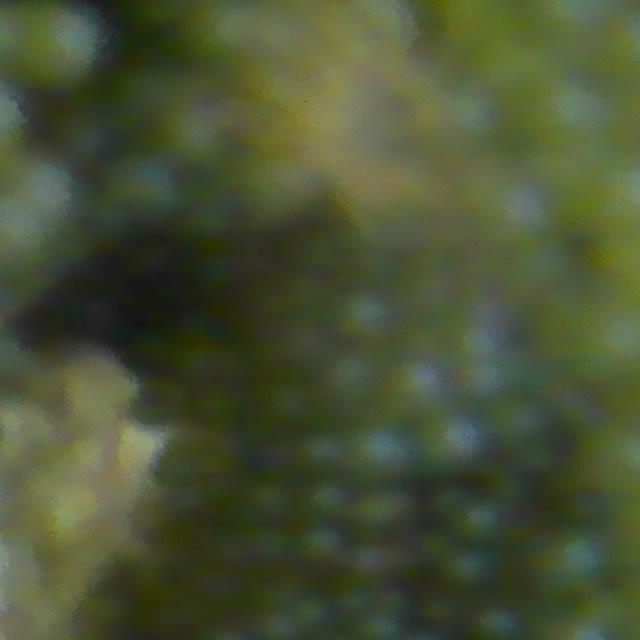SeaGrape: (0, 154, 80, 251), (12, 0, 106, 79), (529, 61, 619, 142), (473, 170, 555, 248), (522, 526, 603, 602), (107, 153, 183, 225), (342, 418, 410, 482), (325, 348, 389, 407), (352, 481, 416, 539), (391, 357, 453, 415), (426, 414, 482, 471), (335, 291, 386, 341), (283, 586, 333, 637), (298, 524, 345, 574), (306, 430, 344, 475), (443, 547, 482, 590), (250, 606, 299, 640), (309, 480, 349, 519), (461, 503, 497, 546), (473, 608, 516, 640)
